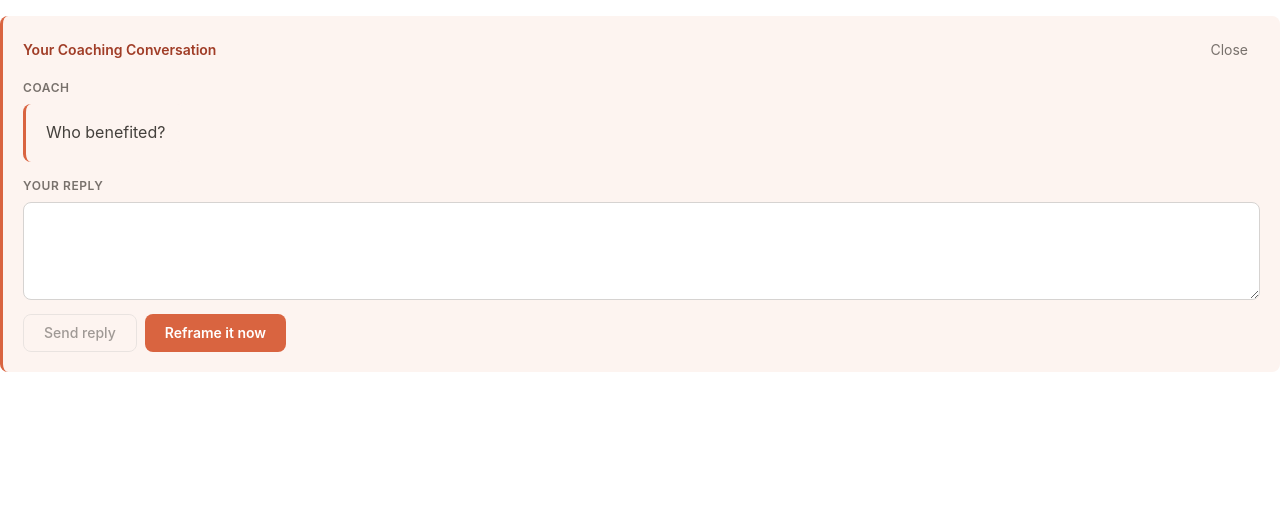
Test: CoachPanel — reframing phase › renders ReframeView with reframed text and notes after reframe completes
Check: the text "Who benefited?" is shown, box [23,104,185,162]
What coordinates should you click on to do the following:
click the button "Reframe it now"
I would click on:
 (215, 333)
Its box is [145,314,286,352].
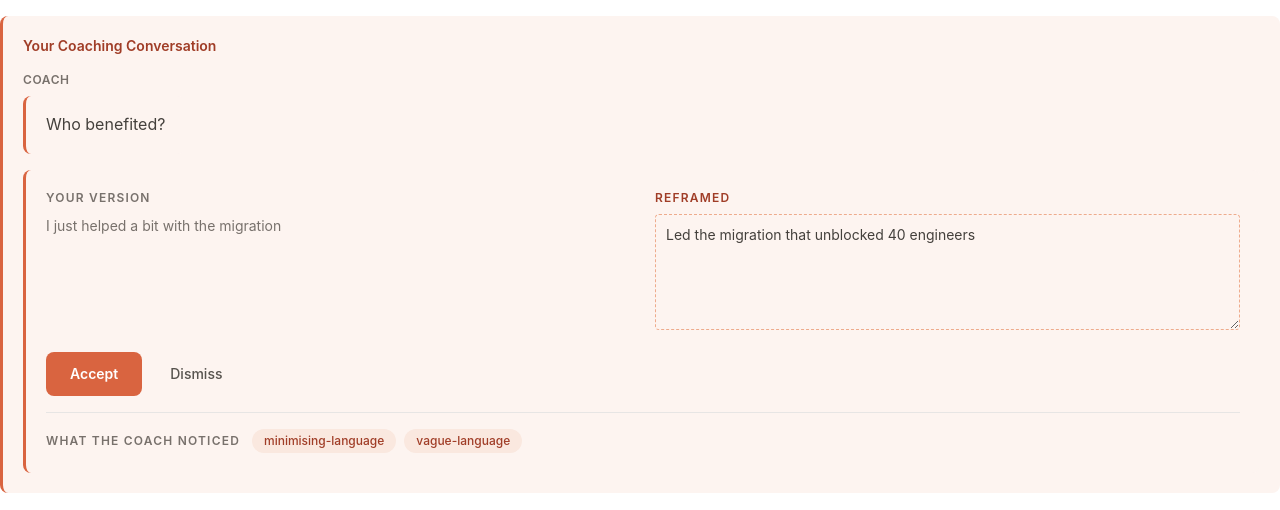
Check: the text box showing "Led the migration that unblocked 40 engineers" is shown, box [655,214,1240,330]
Check: the text "minimising-language" is shown, box [252,429,396,453]
